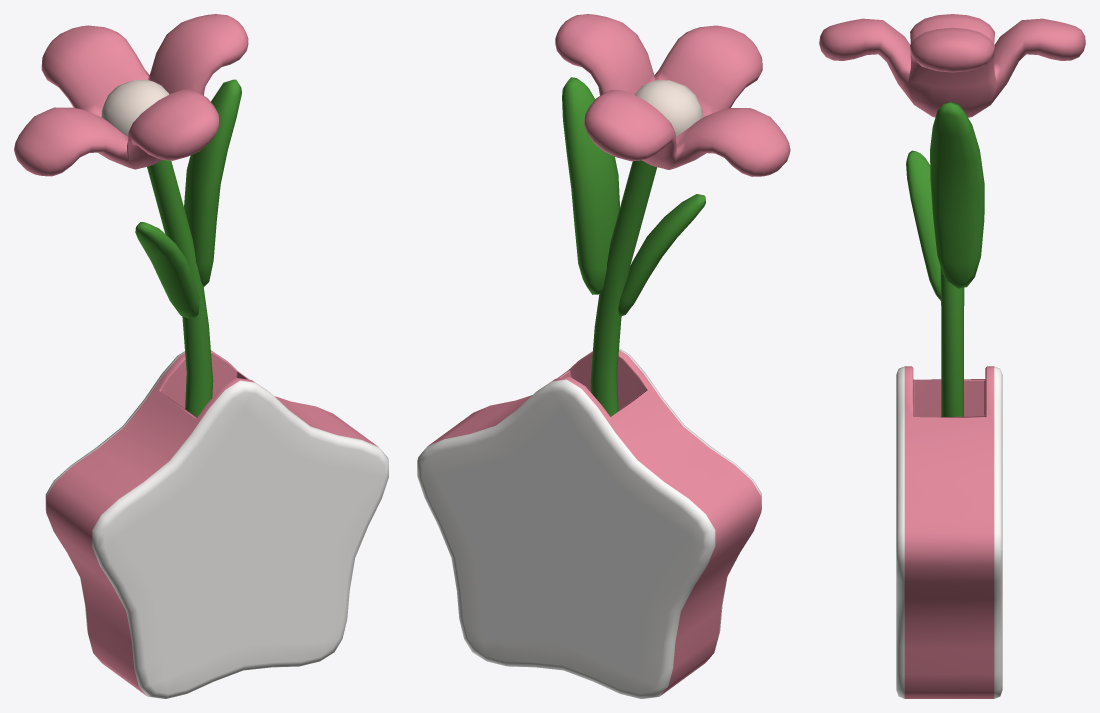
File: Flower_5.glb
3 views of the same model, side by side, from view 1: azimuth 30°, elevation 25°; view 2: azimuth 150°, elevation 25°; view 3: azimuth 270°, elevation 25° (orthographic). The views are drawn at different scales.
Visible parts, largest first — view 1: Vase_with_Flowers_1; view 2: Vase_with_Flowers_1; view 3: Vase_with_Flowers_1.
Boxes of the visible parts, left/top/right/bottom form: Vase_with_Flowers_1: left=14, top=14, right=388, bottom=698; Vase_with_Flowers_1: left=417, top=14, right=790, bottom=698; Vase_with_Flowers_1: left=819, top=14, right=1085, bottom=698.
Bounding box in the file's own units: 0.4612 × 0.8246 × 0.3178.
1 material, 1 textured.
